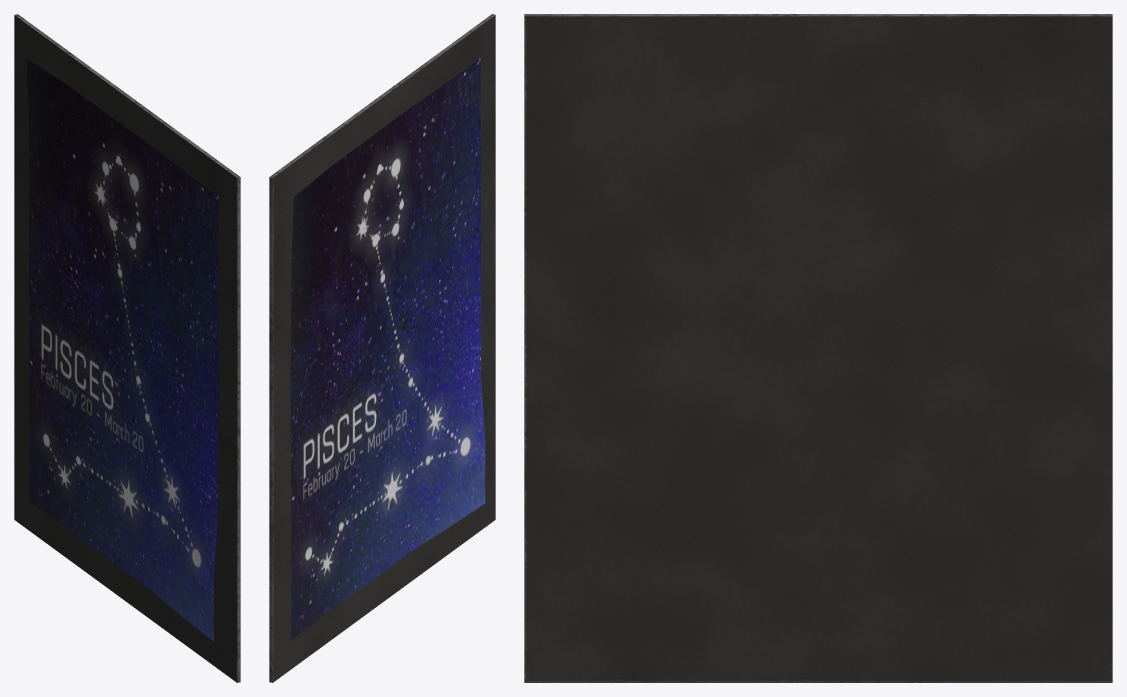
Rendered from SM_Wall_Constellations_01g.fbx.
The picture shows the model from 3 angles, left to right: view 1: azimuth 30°, elevation 25°; view 2: azimuth 150°, elevation 25°; view 3: azimuth 270°, elevation 25°; orthographic projection. The views are drawn at different scales.
Visible parts, largest first — view 1: SM_Wall_Constellations_01g_LOD0; view 2: SM_Wall_Constellations_01g_LOD0; view 3: SM_Wall_Constellations_01g_LOD0.
Part boxes in pixels (left/top/right/bottom): SM_Wall_Constellations_01g_LOD0: left=14, top=14, right=240, bottom=682; SM_Wall_Constellations_01g_LOD0: left=269, top=14, right=495, bottom=682; SM_Wall_Constellations_01g_LOD0: left=524, top=14, right=1112, bottom=682.
Size of the model in its own units: 1.05 by 40 by 50.
